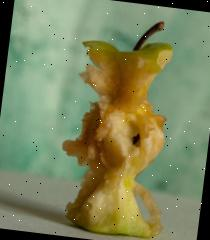organic: (58, 4, 195, 240)
